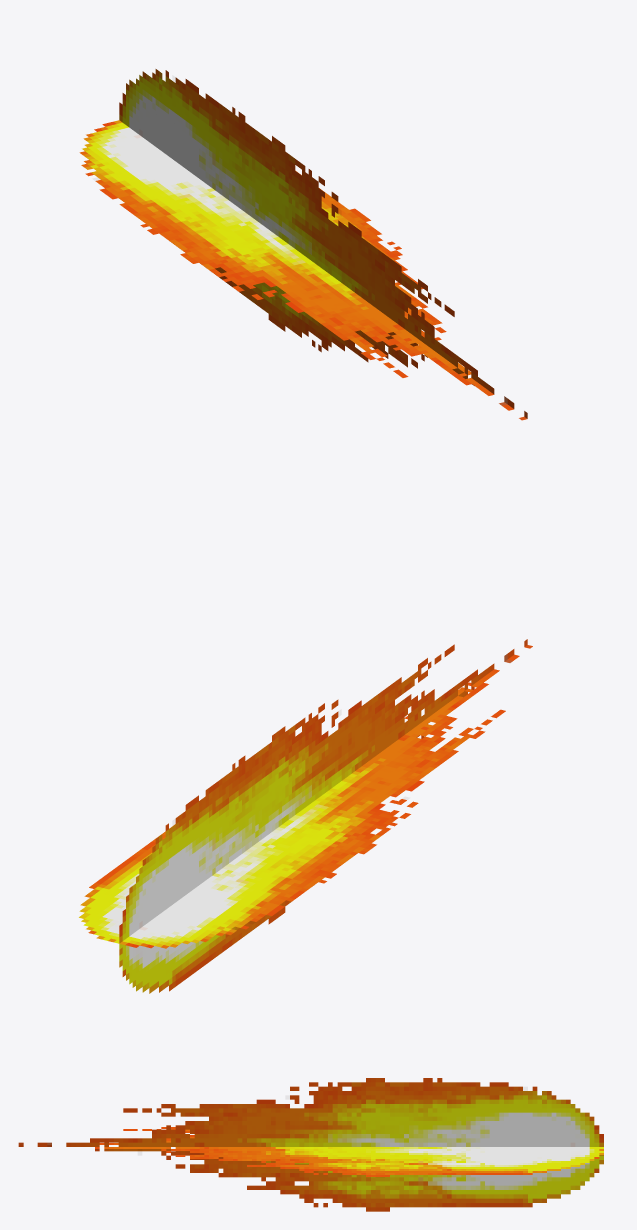
Rendered from apache_bullet.glb.
The picture shows the model from 3 angles, top to bottom: view 1: azimuth 30°, elevation 25°; view 2: azimuth 150°, elevation 25°; view 3: azimuth 270°, elevation 25°; orthographic projection. The views are drawn at different scales.
Parts seen in each view (by area): view 1: Plane.002; view 2: Plane.002; view 3: Plane.002.
Part boxes in pixels (x1,y1,x2,y2): Plane.002: (79, 69, 527, 420); Plane.002: (79, 639, 532, 993); Plane.002: (18, 1078, 603, 1211).
Size of the model in its own units: 0.5553 by 0.5553 by 2.22.
Materials: 1 (1 with a texture image).
